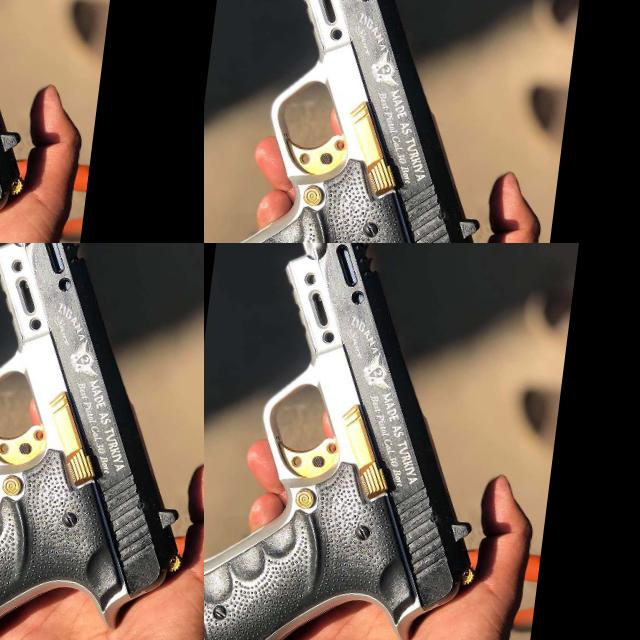handgun: (204, 243, 526, 640), (329, 0, 552, 91), (364, 0, 571, 74), (0, 0, 126, 121), (0, 243, 63, 314)
